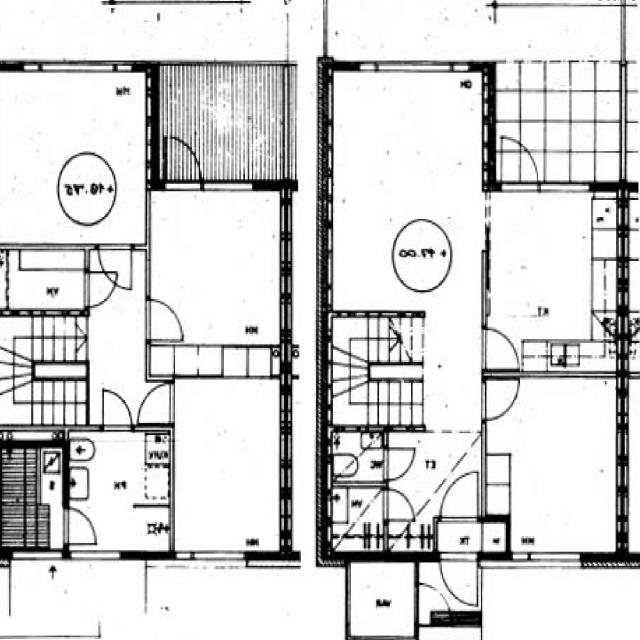door: (164, 133, 201, 190), (440, 552, 477, 608), (501, 138, 537, 192), (440, 470, 477, 522), (98, 244, 132, 292), (414, 583, 452, 624), (481, 380, 519, 421), (481, 327, 519, 368), (146, 300, 183, 340), (139, 383, 176, 422), (103, 387, 133, 431), (63, 507, 98, 543), (85, 272, 119, 308), (384, 490, 413, 520), (384, 449, 412, 479)
